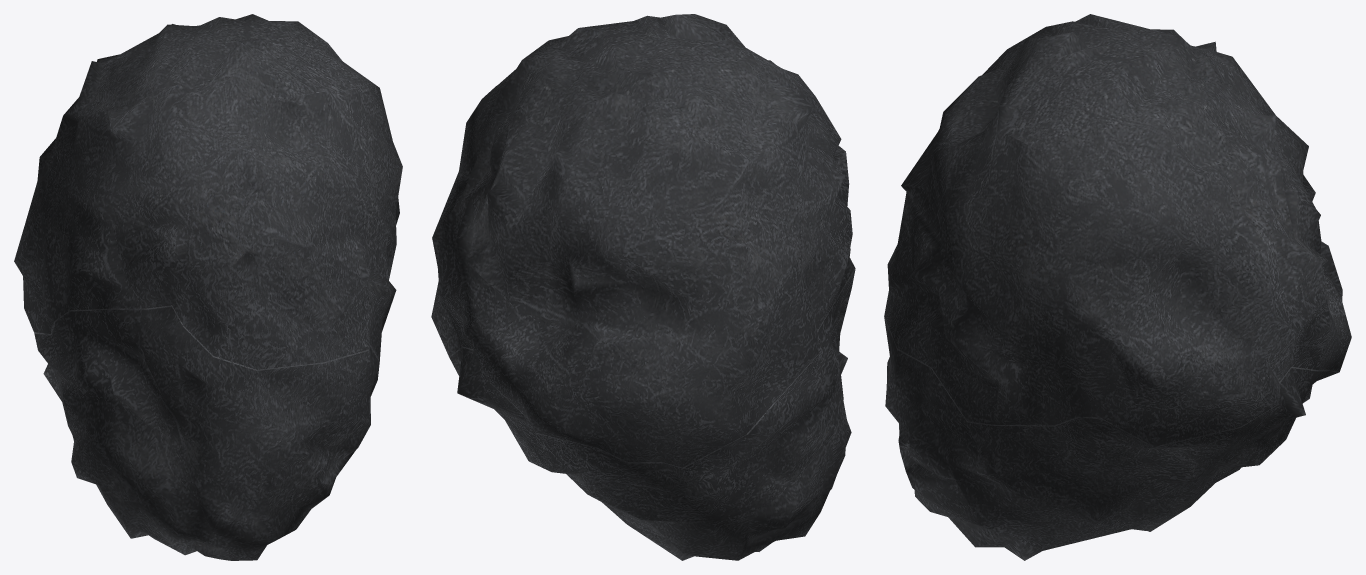
Rendered from asteroid.glb.
3 renders of one model, left to right at view 1: azimuth 30°, elevation 25°; view 2: azimuth 150°, elevation 25°; view 3: azimuth 270°, elevation 25°, orthographic. The views are drawn at different scales.
Parts seen in each view (by area): view 1: Object_2; view 2: Object_2; view 3: Object_2.
Part boxes in pixels (box(x1,y1,x2,y2)): Object_2: box(14, 14, 402, 560); Object_2: box(431, 14, 855, 560); Object_2: box(884, 14, 1351, 560).
Size of the model in its own units: 2.25 by 3.14 by 2.47.
1 material, 1 textured.
